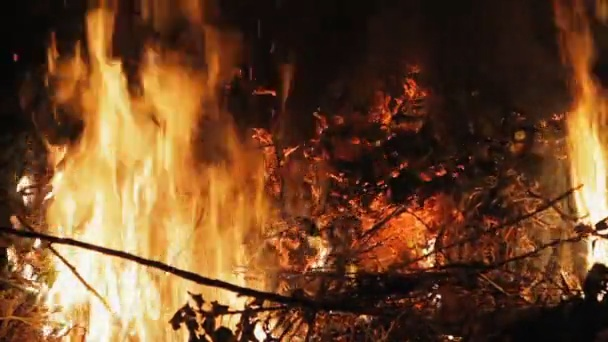fire: (8, 3, 249, 341), (550, 1, 608, 263), (305, 236, 331, 270), (416, 236, 434, 268)
